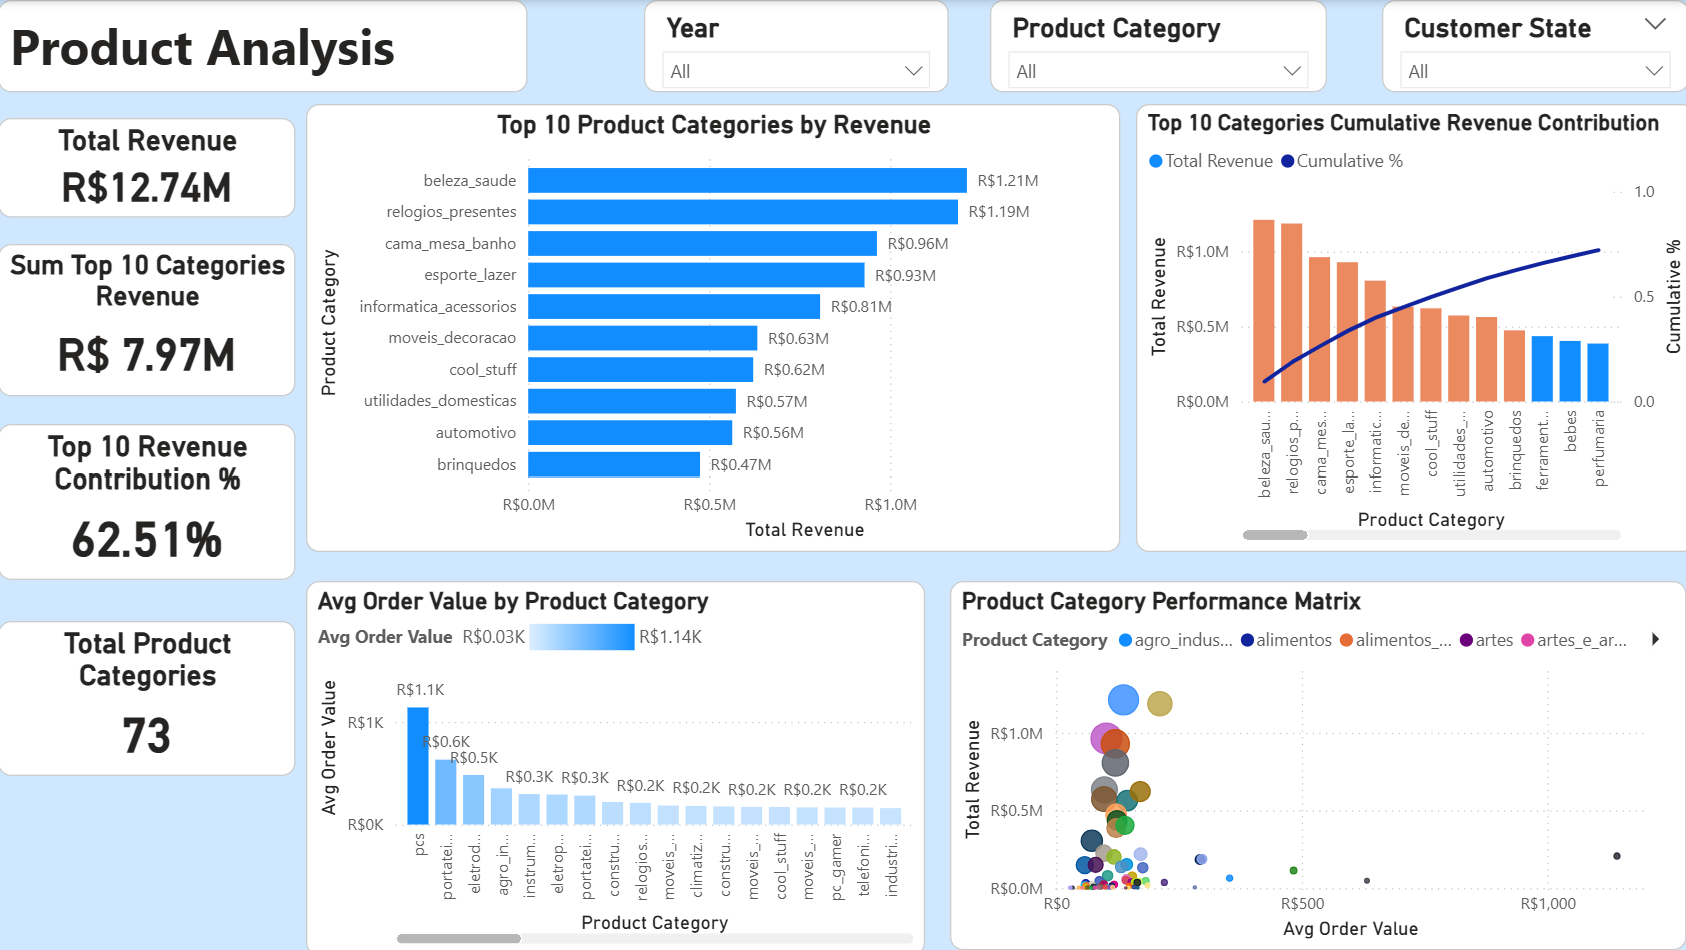

This screenshot's page, from the dashboard's own definition file:
{"tool":"powerbi","page":{"name":"Product Analysis","canvas":[1280,720],"ordinal":1},"visuals":[{"type":"clusteredBarChart","title":"Top 10 Product Categories by Revenue","fields":{"Category":["Olist Orders.Product Category","Olist Orders.Product ID"],"Y":["Olist Orders.Total Revenue"]},"box":[232.9,79.5,617.3,338.9],"z":0},{"type":"card","title":"Total Product Categories","fields":{"Values":["Olist Orders.Total Product Categories"]},"box":[0,469.6,225.3,117.4],"z":1000},{"type":"card","title":"Total Revenue","fields":{"Values":["Olist Orders.Total Revenue"]},"box":[0,89,225.3,75.7],"z":2000},{"type":"card","title":"Sum Top 10 Categories Revenue","fields":{"Values":["Olist Orders.Top 10 Revenue"]},"box":[0,185.6,225.3,115.5],"z":3000},{"type":"card","title":"Top 10 Revenue Contribution %","fields":{"Values":["Olist Orders.Top 10 Contribution %"]},"box":[0,321.9,225.3,117.4],"z":4000},{"type":"clusteredColumnChart","fields":{"Category":["Olist Orders.Product Category"],"Y":["Olist Orders.Avg Order Value"]},"box":[232.9,439.3,469.6,284],"z":5000},{"type":"lineClusteredColumnComboChart","title":"Top 10 Categories Cumulative Revenue Contribution","fields":{"Category":["Olist Orders.Product Category"],"Y":["Olist Orders.Total Revenue"],"Y2":["Olist Orders.Cumulative %"]},"box":[863.4,79.5,424.1,338.9],"z":6000},{"type":"scatterChart","title":"Product Category Performance Matrix","fields":{"X":["Olist Orders.Avg Order Value"],"Y":["Olist Orders.Total Revenue"],"Size":["Olist Orders.Total Orders"],"Series":["Olist Orders.Product Category"]},"box":[721.4,439.3,558.6,280.2],"z":7000},{"type":"slicer","title":"Product Category","fields":{"Values":["Olist Orders.Product Category"]},"box":[751.7,0,255.6,70.1],"z":8000},{"type":"slicer","fields":{"Values":["Date Table.Year"]},"box":[490.4,0,231,70.1],"z":9000},{"type":"slicer","fields":{"Values":["Olist Orders.Customer State"]},"box":[1049,0,232.9,70.1],"z":10000},{"type":"textbox","box":[0,0,401.4,70.1],"z":11000}]}

Visuals, with their boxes in screenshot pixels (x1, y1, x2, y2), scaled from the page's 1280x720 canvas onto the 1686x950 screenshot:
"Top 10 Product Categories by Revenue" clusteredBarChart: bbox=[307, 105, 1120, 552]
"Total Product Categories" card: bbox=[0, 620, 297, 775]
"Total Revenue" card: bbox=[0, 117, 297, 217]
"Sum Top 10 Categories Revenue" card: bbox=[0, 245, 297, 397]
"Top 10 Revenue Contribution %" card: bbox=[0, 425, 297, 580]
clusteredColumnChart - Olist Orders.Product Category x Olist Orders.Avg Order Value: bbox=[307, 580, 925, 949]
"Top 10 Categories Cumulative Revenue Contribution" lineClusteredColumnComboChart: bbox=[1137, 105, 1685, 552]
"Product Category Performance Matrix" scatterChart: bbox=[950, 580, 1685, 949]
"Product Category" slicer: bbox=[990, 0, 1327, 92]
slicer - Date Table.Year: bbox=[646, 0, 950, 92]
slicer - Olist Orders.Customer State: bbox=[1382, 0, 1685, 92]
textbox: bbox=[0, 0, 529, 92]
